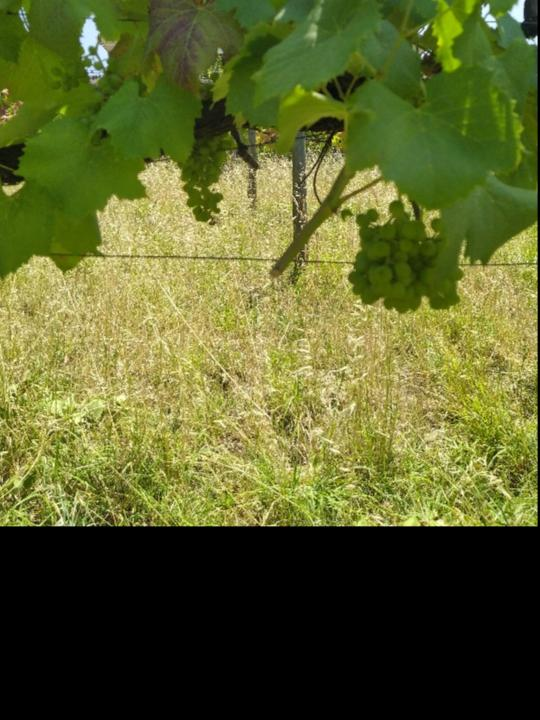grape: (345, 200, 466, 316), (177, 132, 236, 234)
